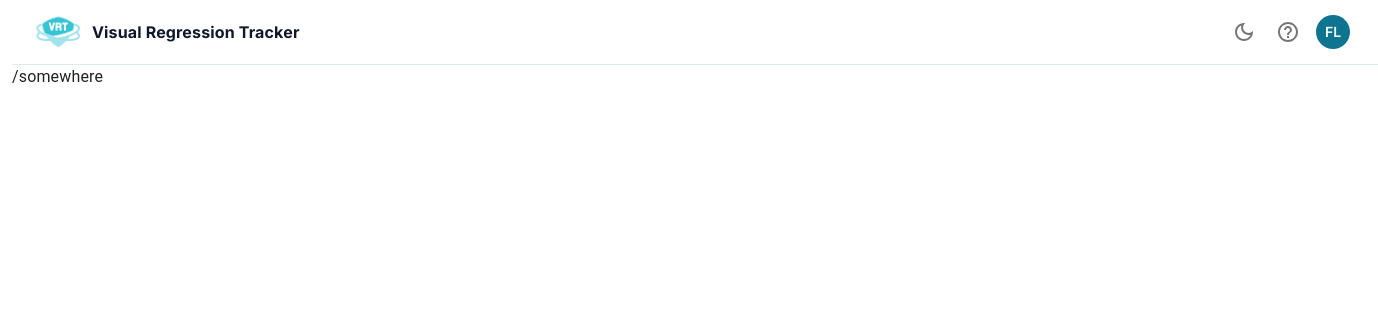
Test case: Header › logged in › opens Projects and closes the menu
This screenshot has width=1378, height=319.
Click the button with test id "avatarMenuButton" at (1333, 32), box [1312,11,1354,53]
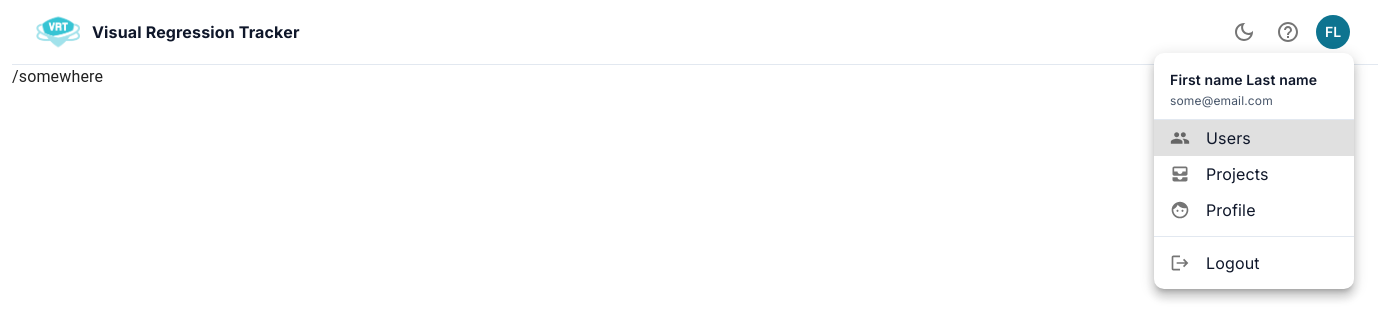
Click the menu item "Projects" at (1219, 174), box [1170,164,1269,184]
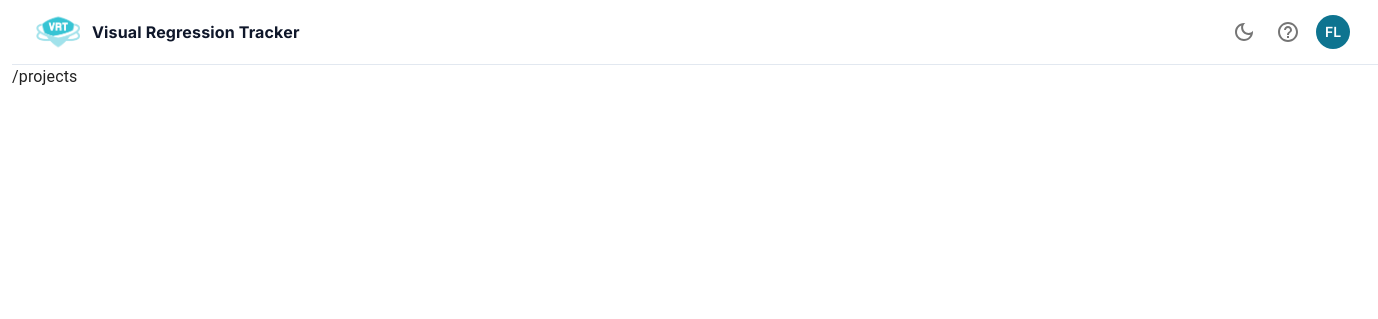
Now the text with test id "location" reads "/projects", box [12,67,78,86]
